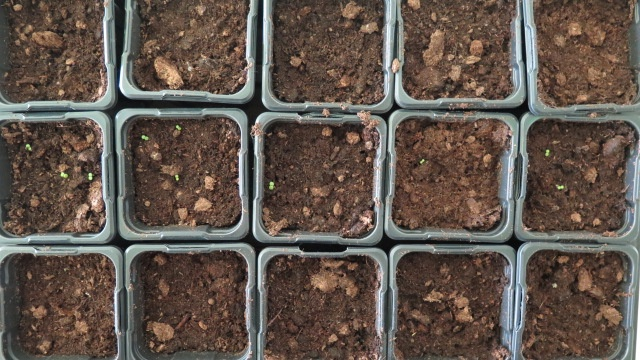weed: (266, 180, 277, 190), (56, 172, 71, 178), (542, 148, 551, 157), (86, 172, 95, 181), (138, 134, 151, 140), (174, 123, 183, 131), (24, 143, 33, 151), (417, 157, 427, 164), (173, 173, 181, 181)
